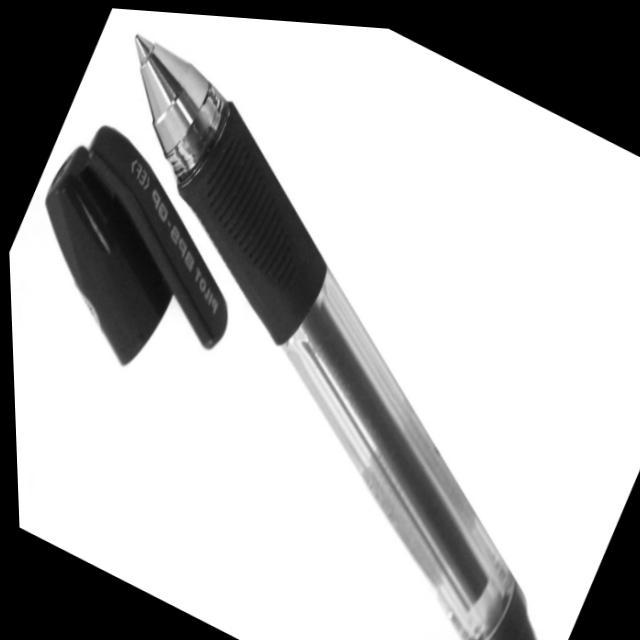pencil: (58, 21, 541, 640)
